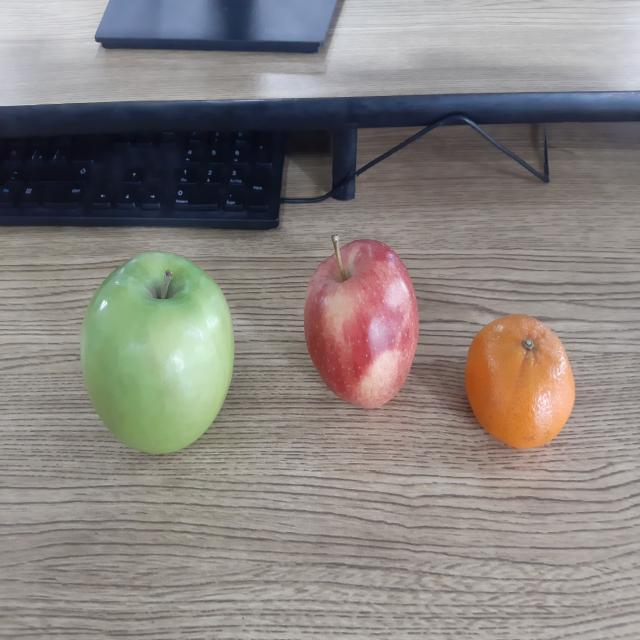Apel Gala: (303, 227, 422, 412)
Apel Granny Smith: (80, 248, 238, 459)
Jeruk Mandarin: (462, 314, 578, 452)
